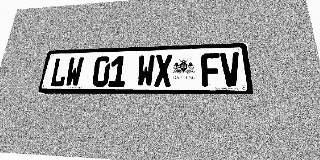0: (92, 56, 111, 87)
1: (108, 56, 127, 87)
F: (201, 53, 221, 86)
L: (49, 57, 69, 87)
V: (220, 52, 242, 86)
W: (136, 55, 155, 87), (64, 57, 84, 87)
X: (154, 54, 172, 87)
